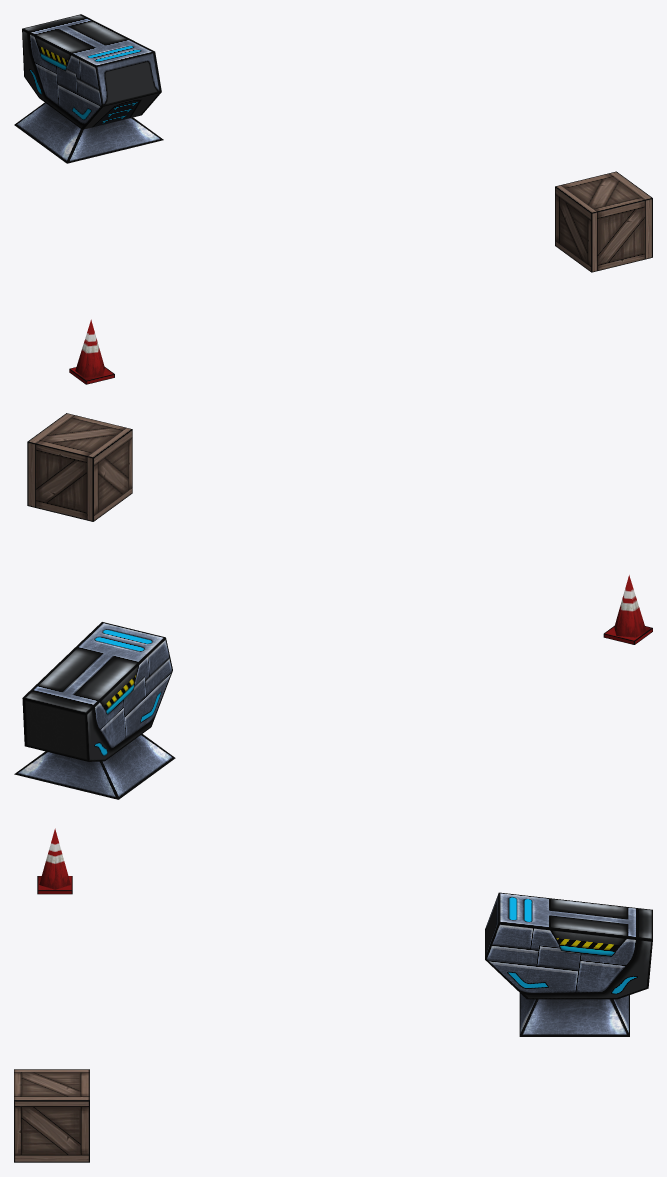
The model's file is factory_05.FBX.
3 views of the same model, one above another, from view 1: azimuth 30°, elevation 25°; view 2: azimuth 150°, elevation 25°; view 3: azimuth 270°, elevation 25° (orthographic). The views are drawn at different scales.
Visible parts, largest first — view 1: factory_Searchlight, factory_box, factory_block; view 2: factory_Searchlight, factory_box, factory_block; view 3: factory_Searchlight, factory_box, factory_block.
Part boxes in pixels (x1,y1,x2,y2): factory_Searchlight: (14, 14, 163, 163); factory_box: (555, 171, 652, 272); factory_block: (69, 319, 114, 384); factory_Searchlight: (14, 622, 175, 799); factory_box: (27, 413, 132, 521); factory_block: (603, 575, 652, 644); factory_Searchlight: (485, 892, 652, 1036); factory_box: (14, 1069, 89, 1162); factory_block: (37, 828, 72, 894).
Bounding box in the file's own units: 2930 × 507 × 2797.
